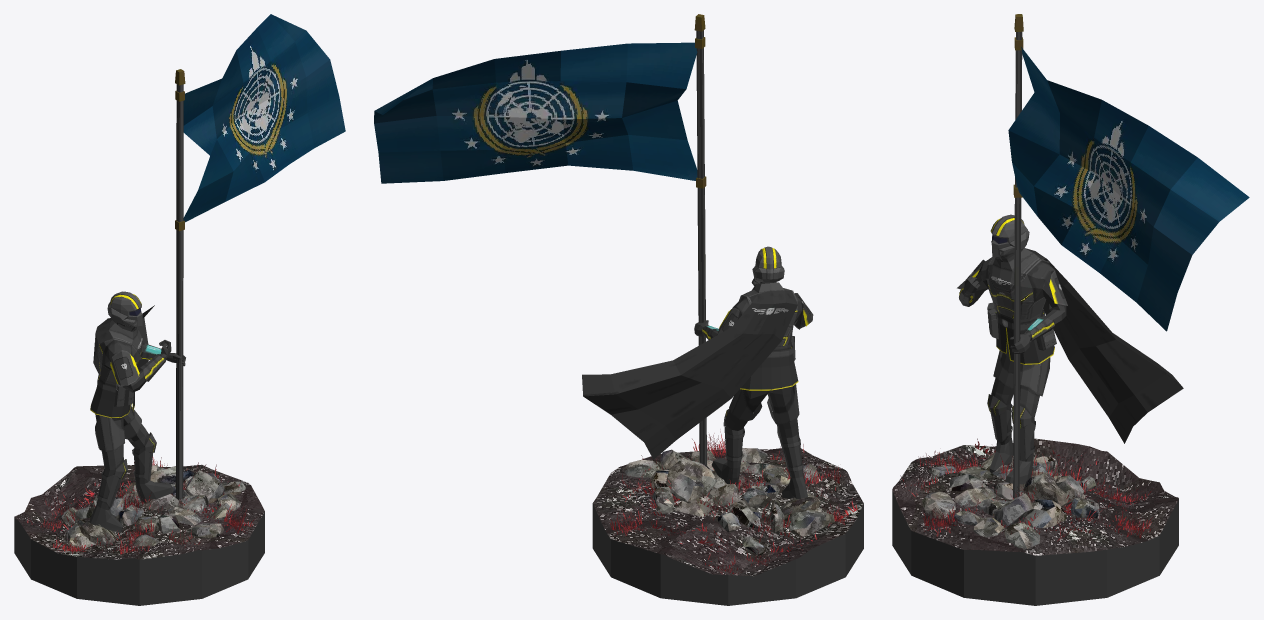
The picture shows the model from 3 angles, left to right: view 1: azimuth 30°, elevation 25°; view 2: azimuth 150°, elevation 25°; view 3: azimuth 270°, elevation 25°; orthographic projection. The views are drawn at different scales.
Parts seen in each view (by area): view 1: Plane.002_Material.001_0, Plane.002_Helmet_0, Plane.002_Material_0, Plane.002_Rocks_0, Plane.002_Armor_0, Plane.002_Body_0, Plane.002_Flag_pole_0, Plane.002_Red_Grass2_0, Plane.002_Cloth_0, Plane.002_Red_Grass_0; view 2: Plane.002_Material.001_0, Plane.002_Cloth_0, Plane.002_Material_0, Plane.002_Helmet_0, Plane.002_Rocks_0, Plane.002_Body_0, Plane.002_Armor_0, Plane.002_Red_Grass2_0, Plane.002_Flag_pole_0, Plane.002_Red_Grass_0; view 3: Plane.002_Material.001_0, Plane.002_Material_0, Plane.002_Helmet_0, Plane.002_Cloth_0, Plane.002_Rocks_0, Plane.002_Armor_0, Plane.002_Body_0, Plane.002_Red_Grass2_0, Plane.002_Flag_pole_0, Plane.002_Red_Grass_0.
Part boxes in pixels (box(x1,y1,x2,y2)): Plane.002_Material.001_0: box(183, 14, 345, 222); Plane.002_Helmet_0: box(14, 291, 264, 605); Plane.002_Material_0: box(14, 464, 264, 559); Plane.002_Rocks_0: box(61, 465, 245, 549); Plane.002_Armor_0: box(95, 320, 165, 507); Plane.002_Body_0: box(89, 322, 185, 532); Plane.002_Flag_pole_0: box(175, 69, 185, 499); Plane.002_Red_Grass2_0: box(43, 457, 257, 554); Plane.002_Cloth_0: box(90, 305, 154, 418); Plane.002_Red_Grass_0: box(27, 462, 240, 554); Plane.002_Material.001_0: box(374, 42, 697, 183); Plane.002_Cloth_0: box(582, 290, 798, 459); Plane.002_Material_0: box(593, 448, 863, 576); Plane.002_Helmet_0: box(592, 246, 863, 605); Plane.002_Rocks_0: box(623, 448, 834, 555); Plane.002_Body_0: box(694, 278, 807, 498); Plane.002_Armor_0: box(702, 282, 813, 471); Plane.002_Red_Grass2_0: box(608, 429, 843, 574); Plane.002_Flag_pole_0: box(694, 14, 706, 465); Plane.002_Red_Grass_0: box(612, 450, 857, 566); Plane.002_Material.001_0: box(1008, 47, 1249, 331); Plane.002_Material_0: box(892, 438, 1178, 555); Plane.002_Helmet_0: box(892, 214, 1178, 605); Plane.002_Cloth_0: box(996, 248, 1183, 443); Plane.002_Rocks_0: box(922, 452, 1099, 548); Plane.002_Armor_0: box(957, 248, 1067, 460); Plane.002_Body_0: box(959, 250, 1066, 483); Plane.002_Red_Grass2_0: box(900, 448, 1156, 538); Plane.002_Flag_pole_0: box(1013, 14, 1023, 498); Plane.002_Red_Grass_0: box(952, 438, 1137, 541).
Bounding box in the file's own units: 120 × 148 × 87.51.
Materials: 10 (10 with a texture image).
